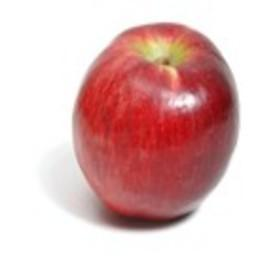apple: (69, 22, 238, 222)
